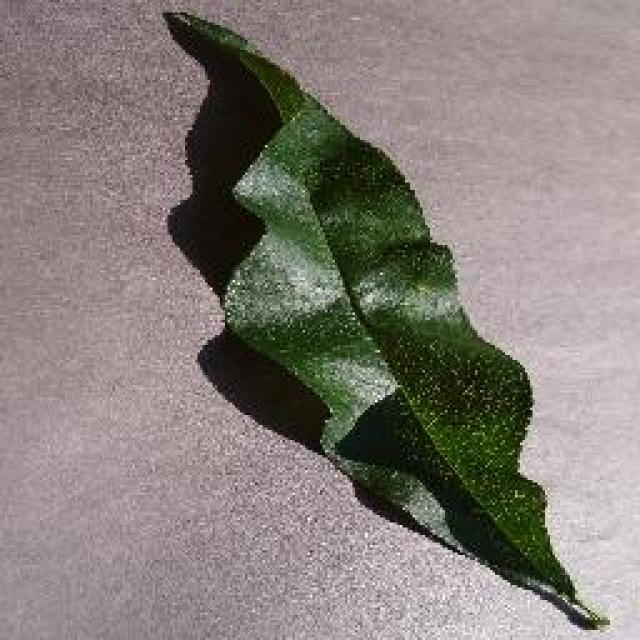Pea_healthy: (205, 58, 581, 526)
